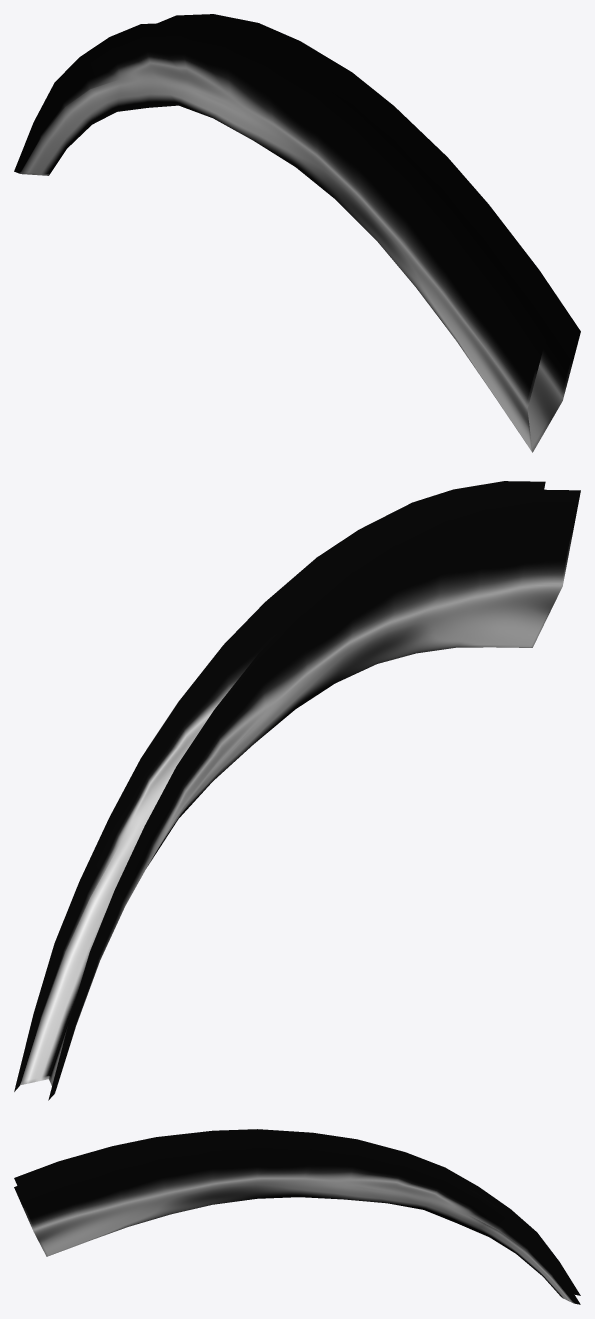
File: p_emissionmesh_drillbot_schythe_anticipation02.fbx
3 renders of one model, top to bottom at view 1: azimuth 30°, elevation 25°; view 2: azimuth 150°, elevation 25°; view 3: azimuth 270°, elevation 25°, orthographic. The views are drawn at different scales.
Visible parts, largest first — view 1: Cube.009; view 2: Cube.009; view 3: Cube.009.
Part boxes in pixels (x1=…): Cube.009: x1=14, y1=14, x2=580, y2=452; Cube.009: x1=14, y1=481, x2=580, y2=1100; Cube.009: x1=14, y1=1129, x2=580, y2=1304.
Size of the model in its own units: 2.96 by 25.02 by 77.15.
Materials: 1 (1 with a texture image).
